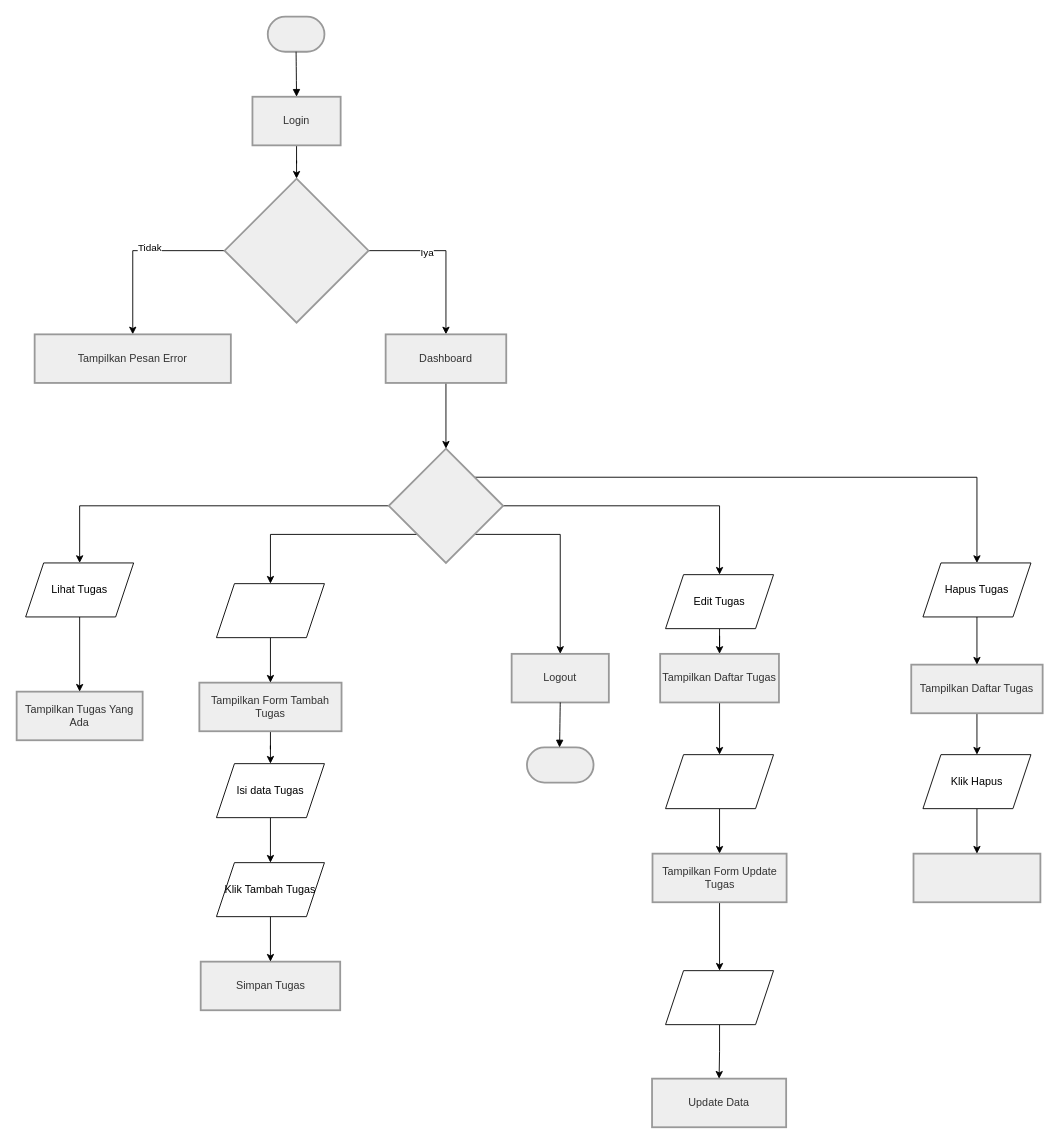
Image size: 1058x1143. Some labels were removed from this diagram. The centre of each missing label's shape, as x and y in pixels:
"Hapus Data" belongs at [976,877].
"Klik Update" belongs at [719,997].
"Login Berhasil?" belongs at [296,250].
"Mulai" belongs at [295,33].
"Pilih Menu" belongs at [445,505].
"Pilih tugas" belongs at [719,781].
"Selesai" belongs at [560,764].
"Tambah Tugas" belongs at [270,610].
